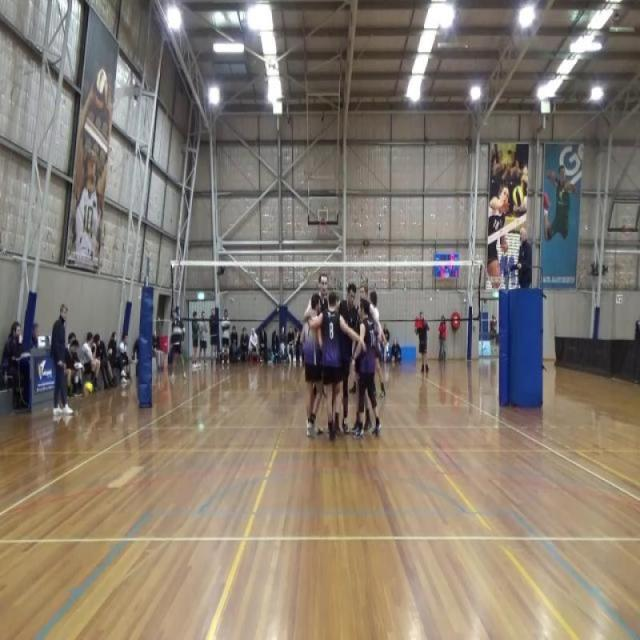volleyball: (94, 68, 108, 114), (512, 184, 525, 208), (83, 380, 94, 398)
